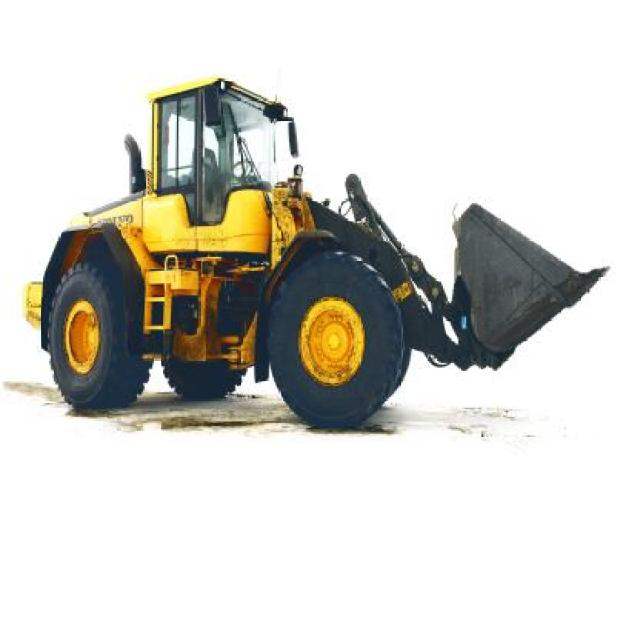buldozerpayloadergrader: (10, 55, 624, 458)
